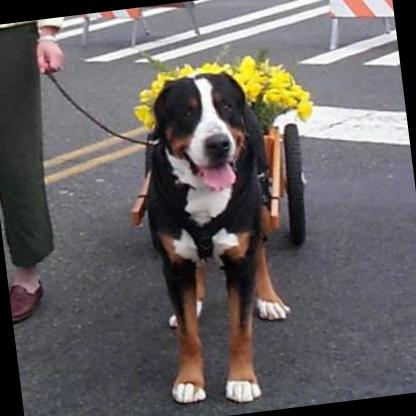Greater_Swiss_Mountain_dog: (126, 57, 304, 411)
